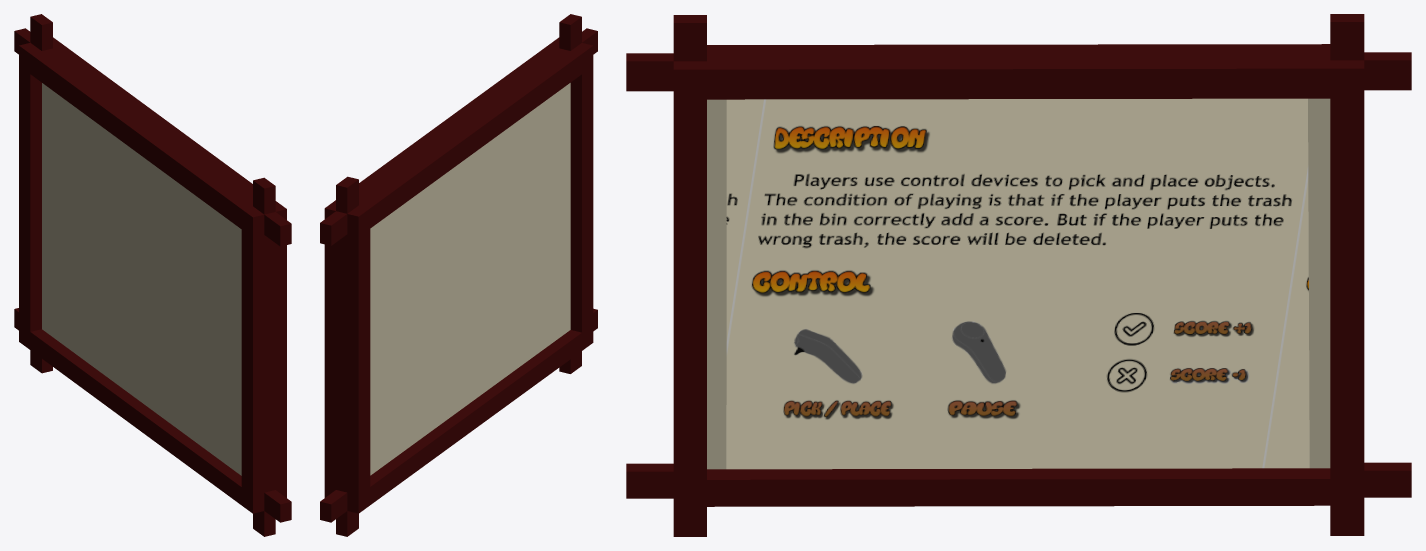
The model's file is howto_info3.fbx.
3 renders of one model, left to right at view 1: azimuth 30°, elevation 25°; view 2: azimuth 150°, elevation 25°; view 3: azimuth 270°, elevation 25°, orthographic. The views are drawn at different scales.
Visible parts, largest first — view 1: sign_info2; view 2: sign_info2; view 3: sign_info2.
Part boxes in pixels (x1,y1,x2,y2): sign_info2: [14, 14, 291, 536]; sign_info2: [320, 14, 597, 536]; sign_info2: [626, 14, 1411, 536].
Bounding box in the file's own units: 0.7015 × 6.86 × 9.49.
Materials: 3 (1 with a texture image).
